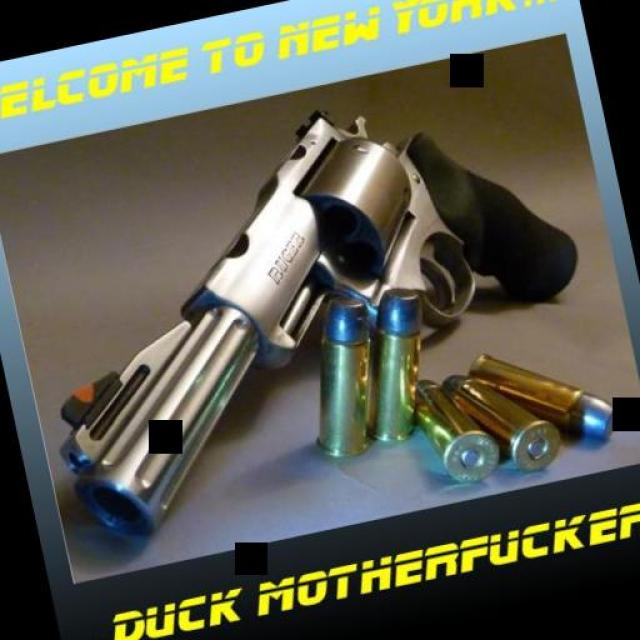gun: (0, 82, 612, 553)
